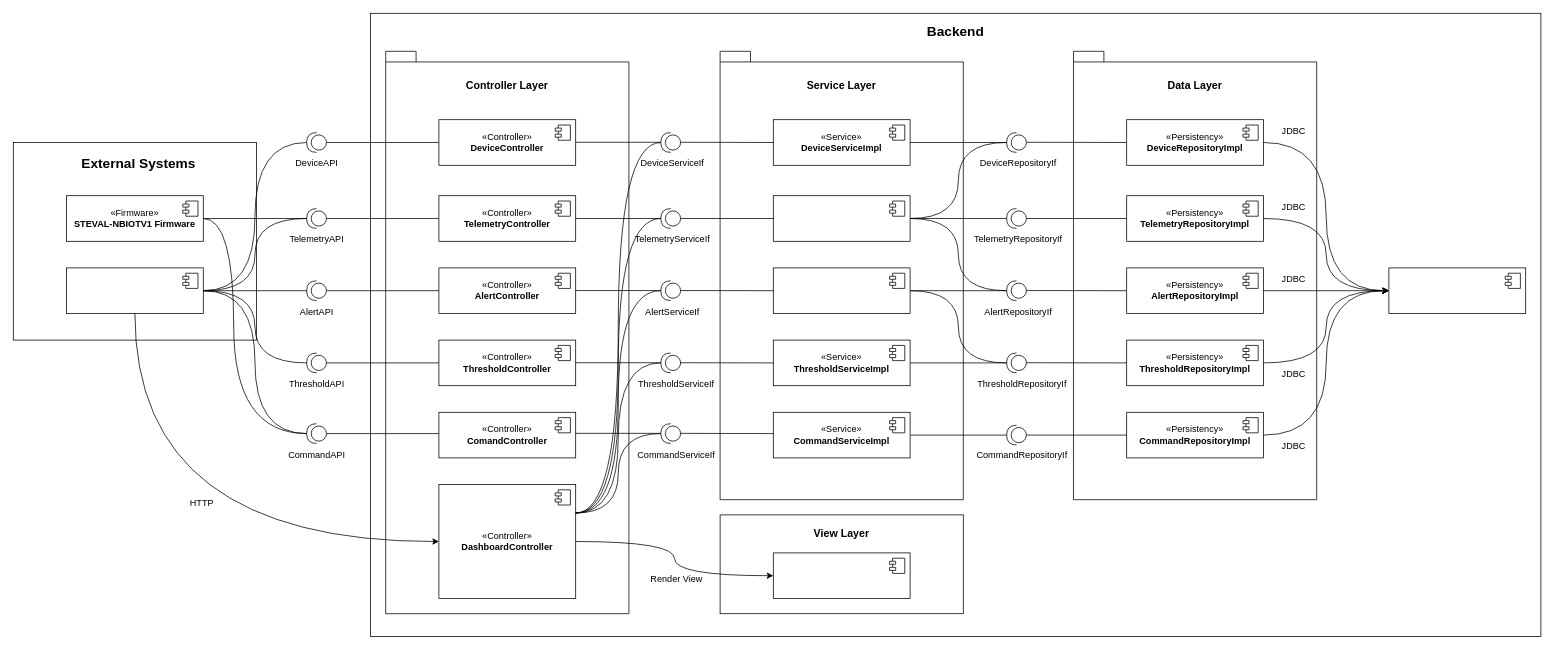
The diagram is 1554 pixels wide and 650 high, and some of its shapes have lost their labels. The centre of each missing label's shape, as x and y in pixels:
"«Client» Web Browser Client" goes at pixel 134 290.
"«Database» SQLite DB" goes at pixel 1457 290.
"«Service» AlertServiceImpl" goes at pixel 841 290.
"«Service» TelemetryServiceImpl" goes at pixel 841 218.
"«View» Thymeleaf Views" goes at pixel 841 575.
